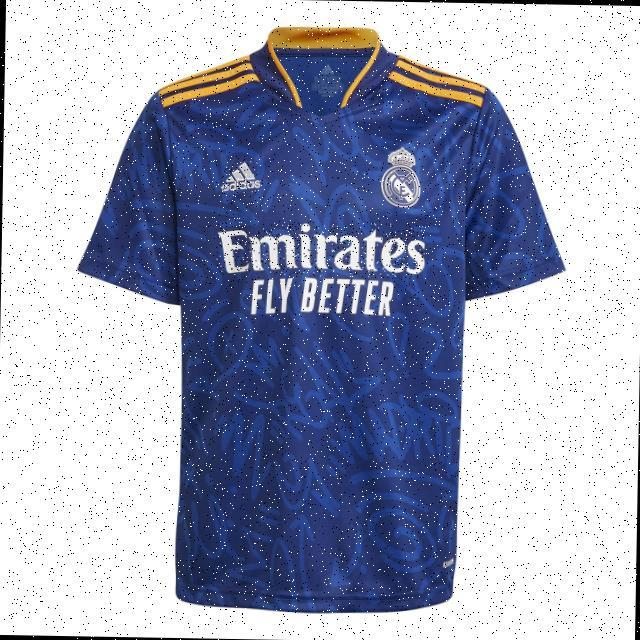Adidas: (221, 160, 262, 193)
Emirates: (216, 220, 425, 278)
